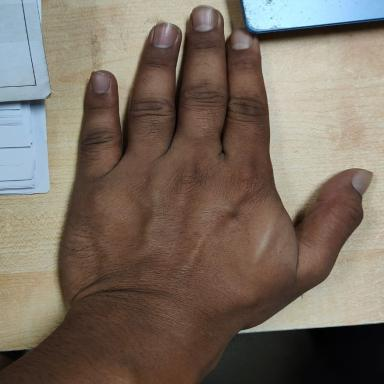normal skin: (1, 7, 369, 384)
